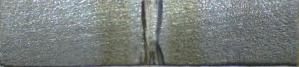soldas: (102, 0, 195, 66)
